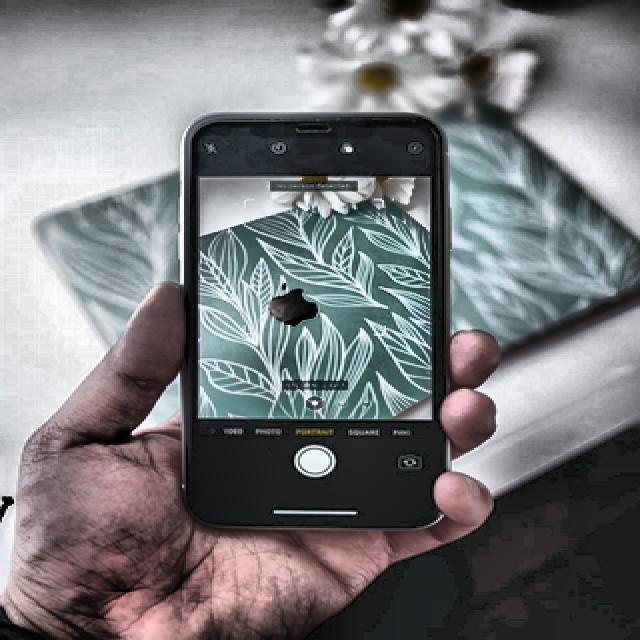Phone: (180, 110, 454, 538)
